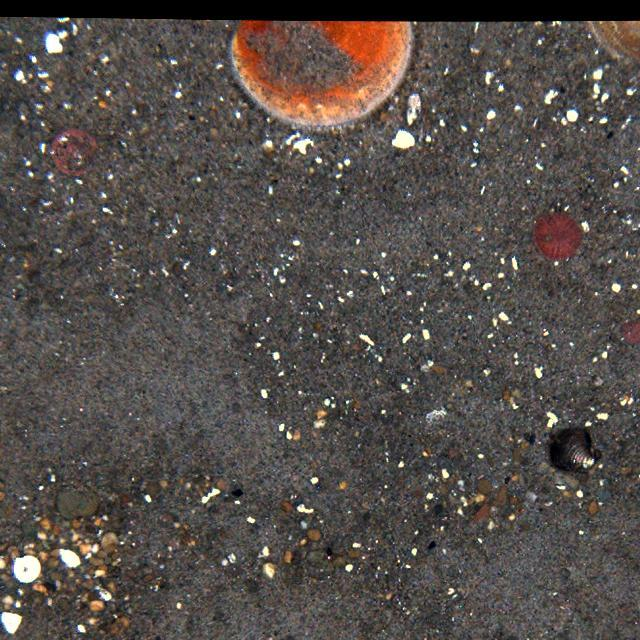scallop: (227, 19, 415, 132)
